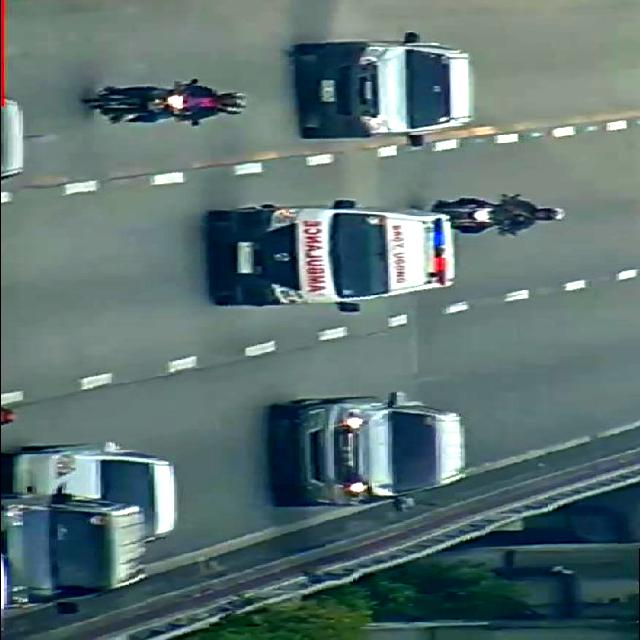emergency: (215, 200, 452, 310)
